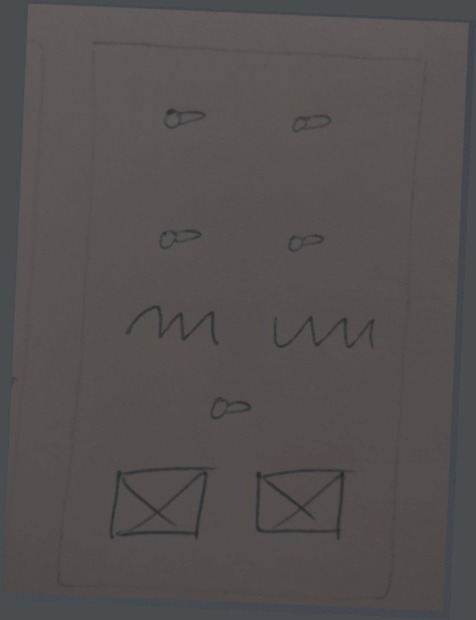image: (241, 451, 362, 550), (104, 452, 221, 554)
switch: (270, 216, 342, 265), (278, 94, 345, 146), (149, 209, 213, 262), (152, 91, 221, 140), (201, 384, 267, 432)
text: (260, 294, 386, 366), (115, 290, 232, 363)
